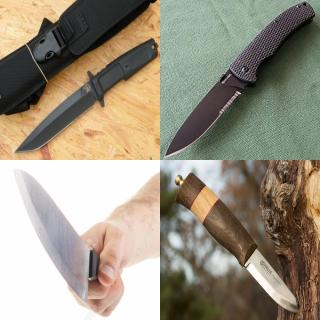knife: (9, 165, 120, 311), (162, 66, 250, 158), (12, 68, 106, 154), (235, 240, 302, 315)
